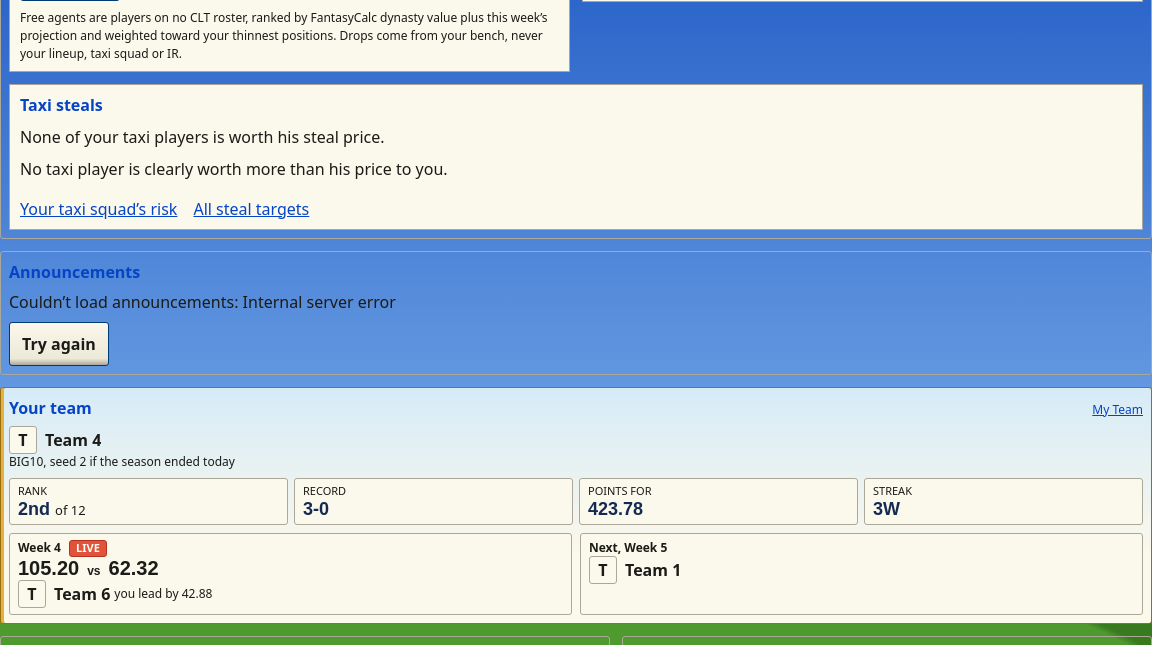
Test: Home › says when there are no announcements, or they fail, and retries
(page scrolled)
Expected: the message shows "announcements: Internal server error", [9, 290, 396, 314]
Click the button "Try again" below "Internal server error": click(59, 344) [9, 322, 109, 366]
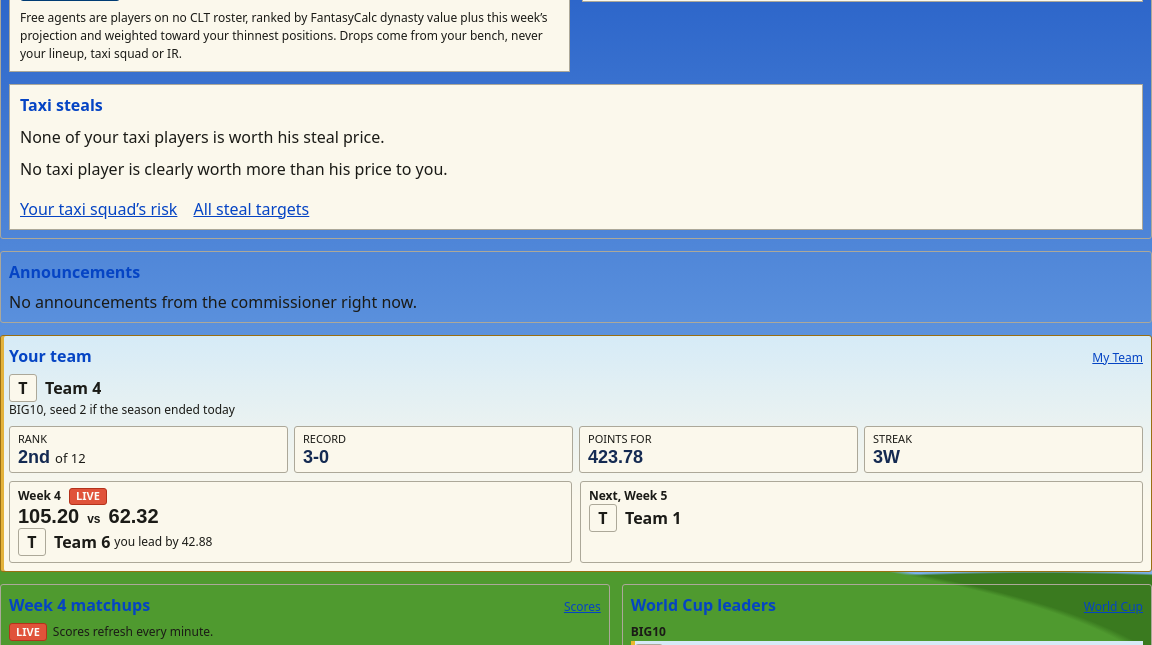
Now the text "No announcements from the commissioner right now." is shown, box [9, 291, 417, 313]
